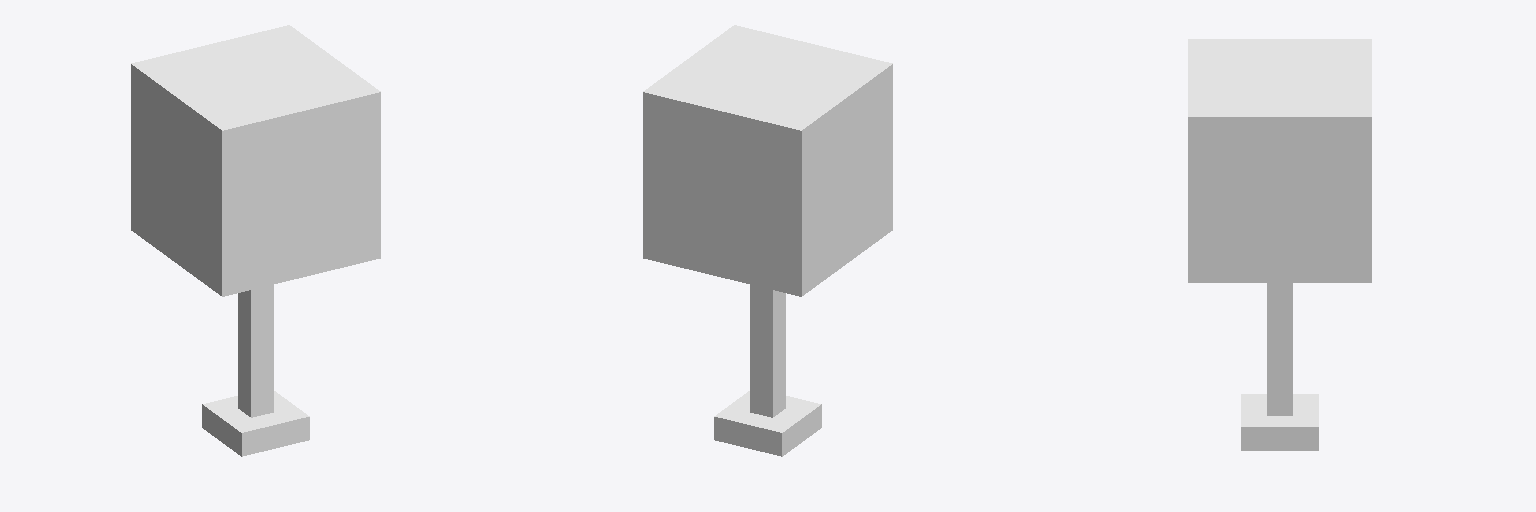
Rendered from tree_small.obj.
The picture shows the model from 3 angles: view 1: azimuth 30°, elevation 25°; view 2: azimuth 150°, elevation 25°; view 3: azimuth 270°, elevation 25°; orthographic projection.
Bounding box in the file's own units: 7 × 15 × 7.